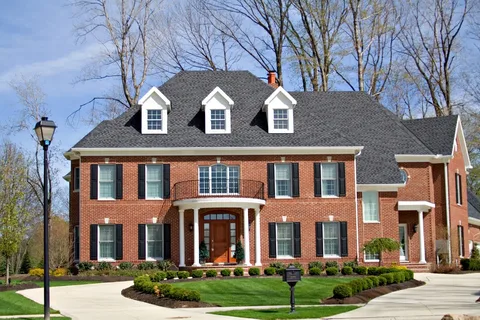private_hause: (71, 64, 473, 272)
